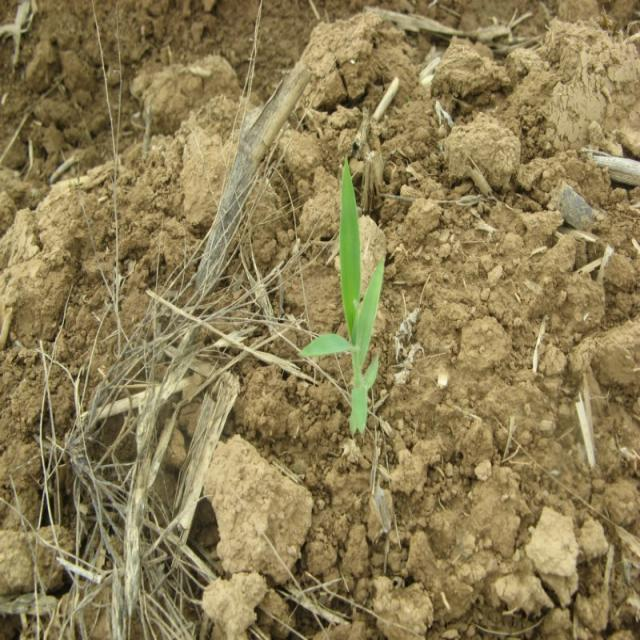bg: (298, 152, 388, 433)
